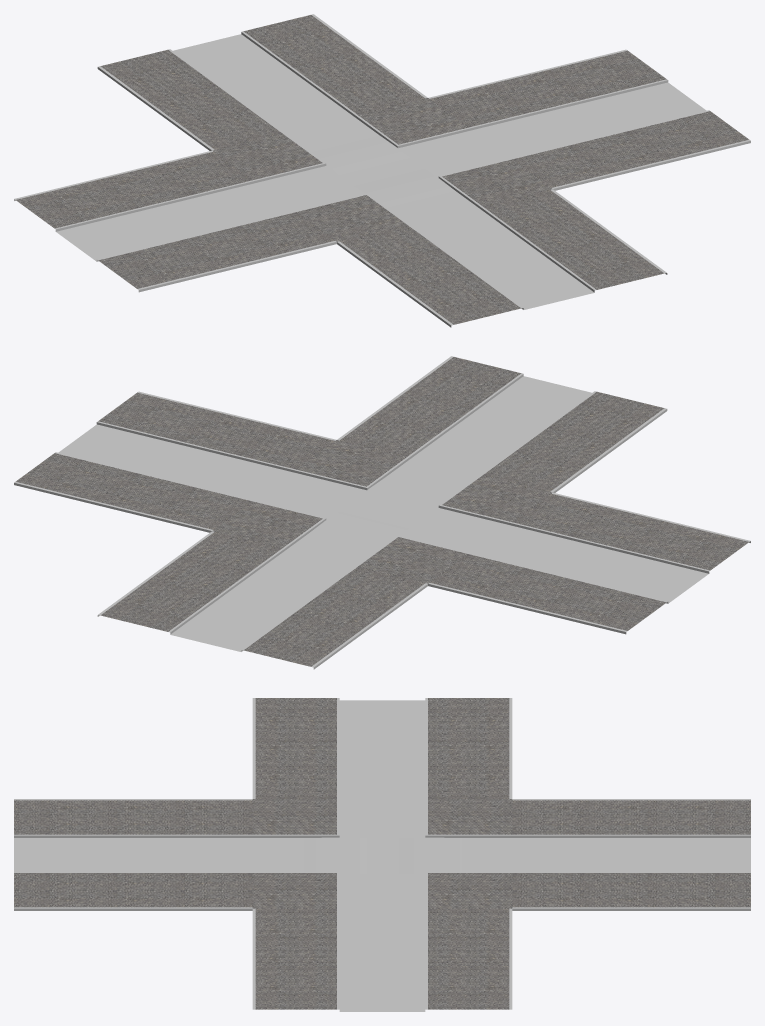
Rendered from ec_road_crossing.fbx.
The picture shows the model from 3 angles, top to bottom: view 1: azimuth 30°, elevation 25°; view 2: azimuth 150°, elevation 25°; view 3: azimuth 270°, elevation 25°; orthographic projection. The views are drawn at different scales.
Parts seen in each view (by area): view 1: Mesh; view 2: Mesh; view 3: Mesh.
Part boxes in pixels (left/top/right/bottom): Mesh: left=14, top=14, right=750, bottom=327; Mesh: left=14, top=356, right=750, bottom=669; Mesh: left=14, top=698, right=750, bottom=1011.
Size of the model in its own units: 6978 by 27 by 6978.
